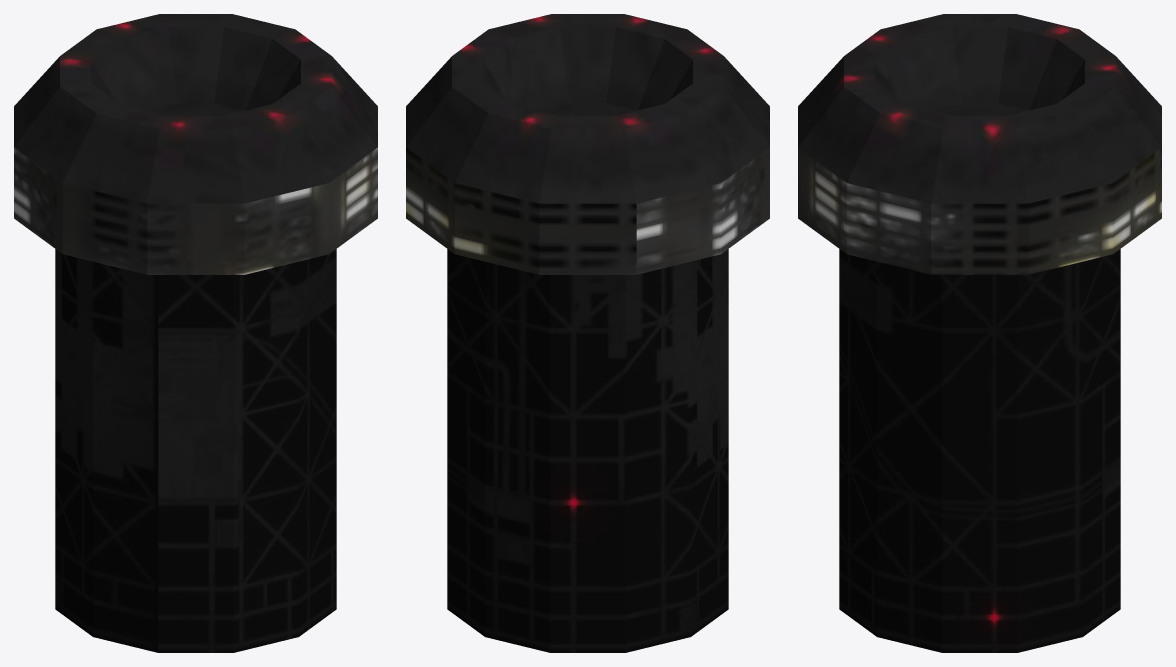
File: scifi_building_4.obj
The picture shows the model from 3 angles, left to right: view 1: azimuth 30°, elevation 25°; view 2: azimuth 150°, elevation 25°; view 3: azimuth 270°, elevation 25°; orthographic projection.
Visible parts, largest first — view 1: building_4; view 2: building_4; view 3: building_4.
Part boxes in pixels (x1,y1,x2,y2): building_4: (14, 14, 377, 652); building_4: (406, 14, 769, 652); building_4: (798, 14, 1161, 652).
Size of the model in its own units: 53.67 by 85.02 by 53.67.
